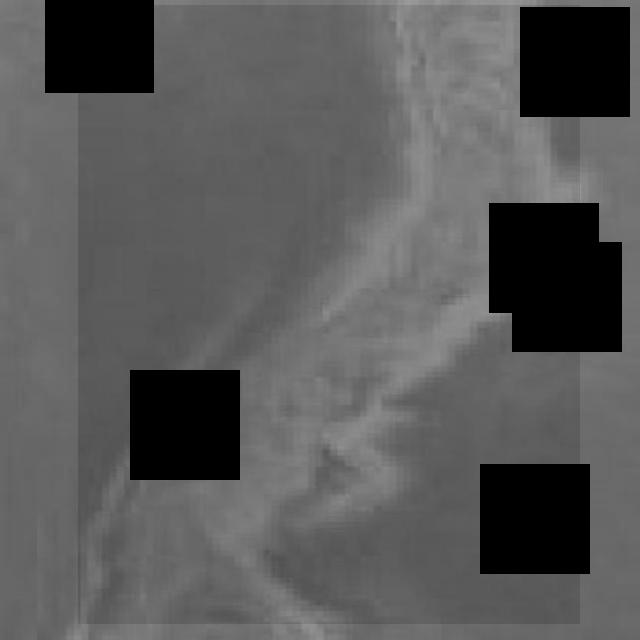oil spill: (79, 6, 580, 624)
